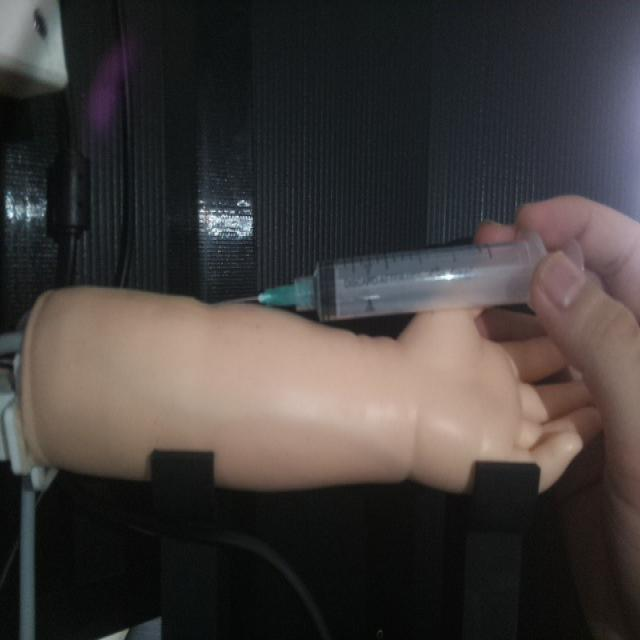Outside: (224, 228, 582, 317)
